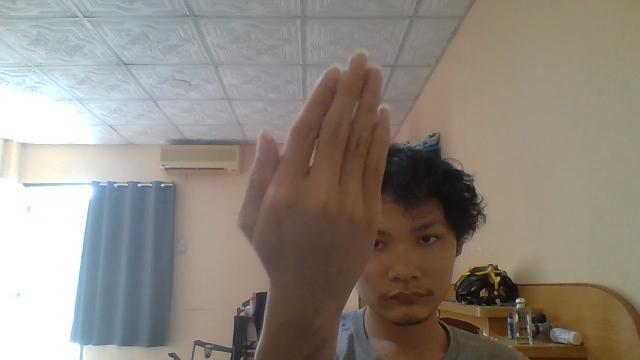backword: (236, 50, 392, 358)
